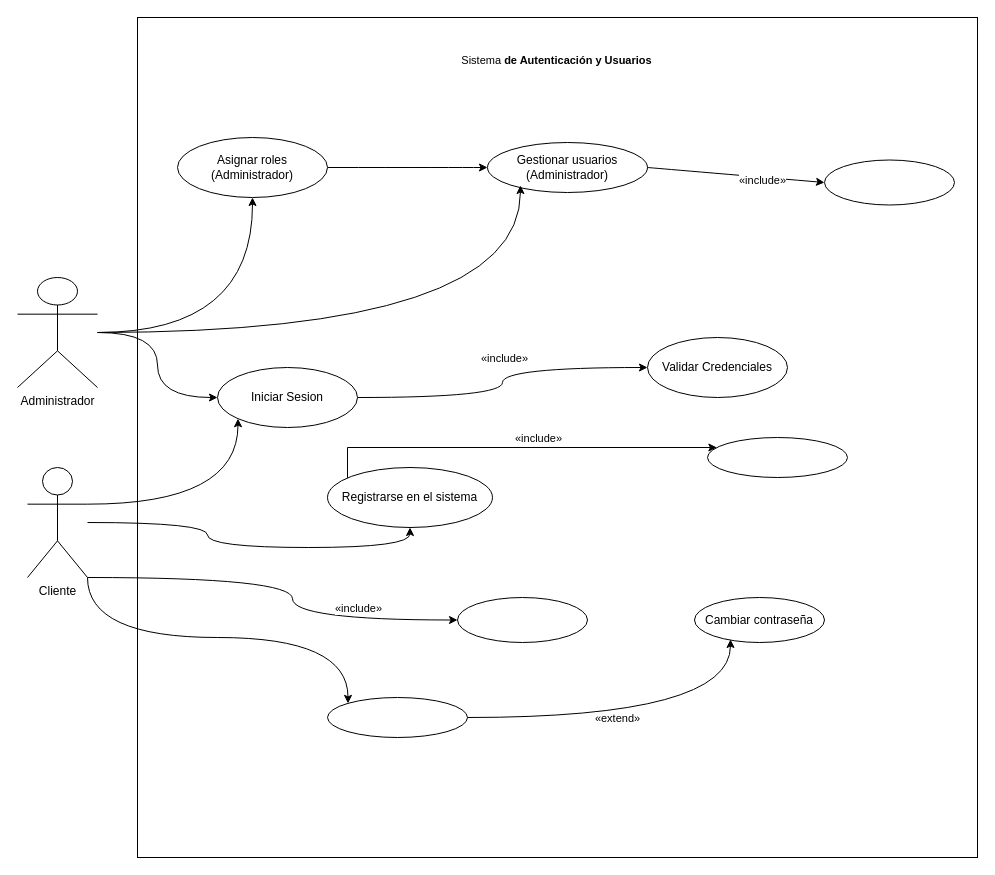
The diagram is 995 pixels wide and 875 high, and some of its shapes have lost their labels. The shapes that lost their labels are listed below. From the top down, each one's box as (x1, y1, x2, y2) in pixels, then its label:
(824, 159, 954, 205): Registrar actividad
(706, 436, 848, 478): Enviar datos al sistema
(456, 596, 588, 642): Cerrar sesión
(326, 696, 468, 738): Ver y editar perfil
